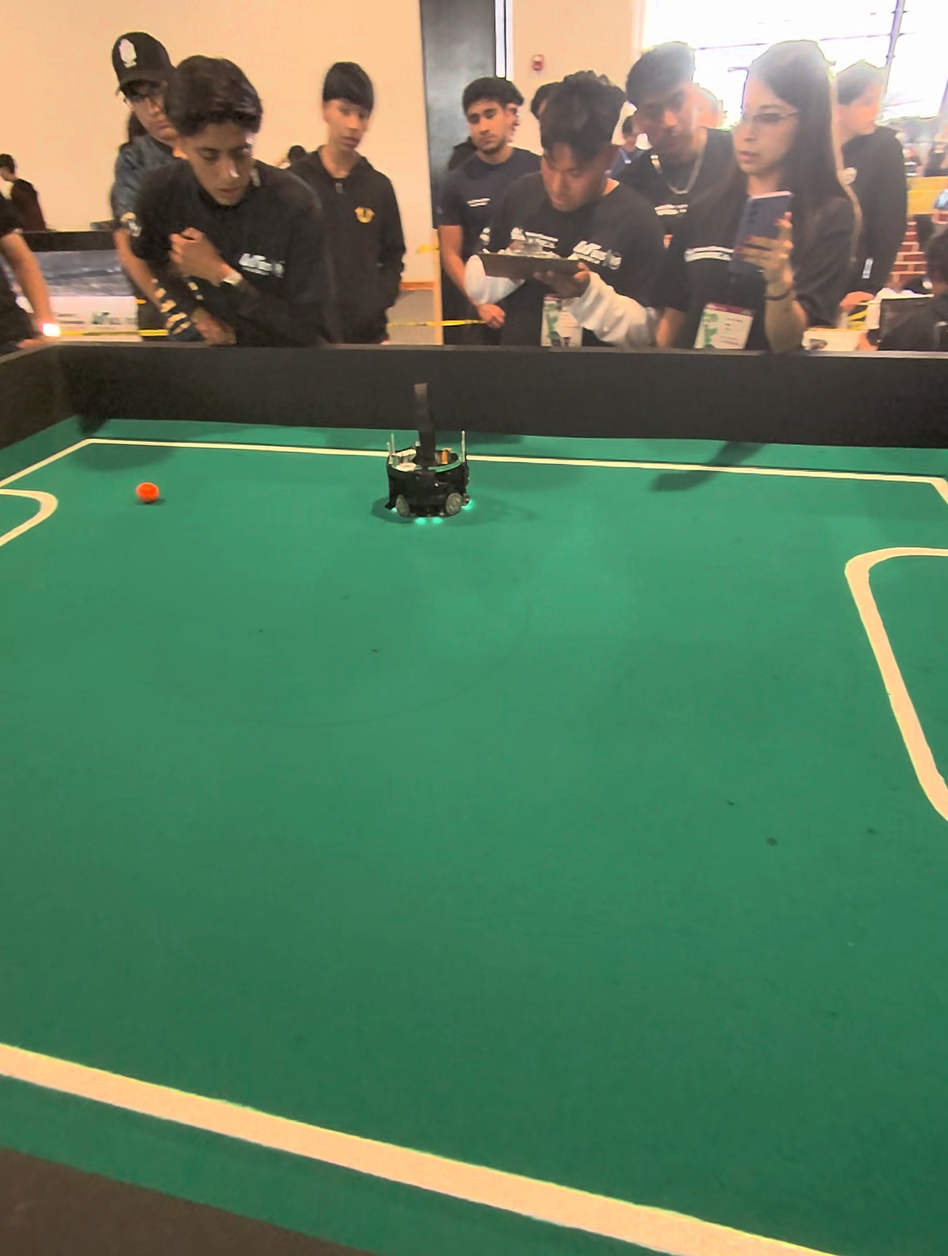Robot: (370, 373, 483, 540)
pelota: (126, 469, 166, 520)
